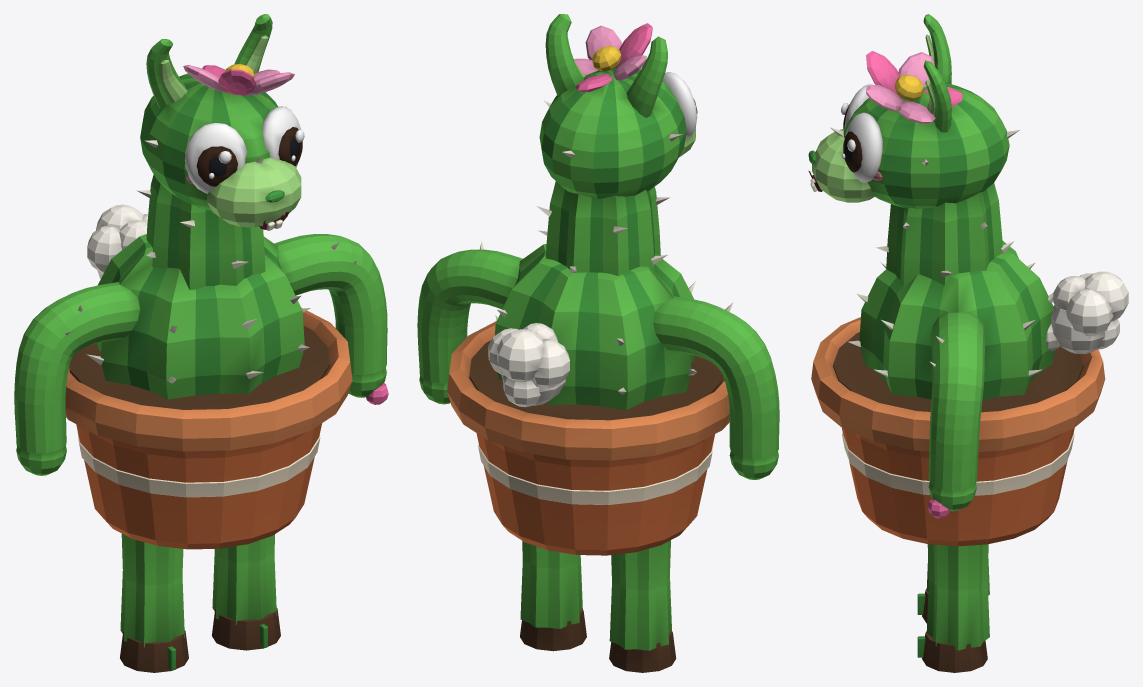
Rendered from skin_cactusso.glb.
3 views of the same model, side by side, from view 1: azimuth 30°, elevation 25°; view 2: azimuth 150°, elevation 25°; view 3: azimuth 270°, elevation 25° (orthographic). The views are drawn at different scales.
Parts seen in each view (by area): view 1: Body, Head, ArmL, ArmR, LegL, LegR, EyeL, Tail, EyeR; view 2: Body, Head, ArmL, ArmR, LegL, LegR, Tail, EyeL; view 3: Body, Head, ArmR, LegR, Tail, EyeR.
Boxes of the visible parts, bbox=[...] form: Body: bbox=[65, 175, 352, 549]; Head: bbox=[140, 14, 301, 230]; ArmL: bbox=[14, 282, 139, 475]; ArmR: bbox=[274, 234, 388, 404]; LegL: bbox=[120, 533, 188, 672]; LegR: bbox=[212, 534, 280, 650]; EyeL: bbox=[185, 123, 247, 193]; Tail: bbox=[87, 204, 148, 273]; EyeR: bbox=[262, 106, 304, 167]; Body: bbox=[447, 181, 729, 555]; Head: bbox=[539, 14, 695, 198]; ArmL: bbox=[653, 296, 779, 479]; ArmR: bbox=[417, 241, 522, 404]; LegL: bbox=[609, 540, 676, 672]; LegR: bbox=[520, 541, 586, 651]; Tail: bbox=[488, 323, 569, 407]; EyeL: bbox=[662, 72, 697, 138]; Body: bbox=[811, 183, 1105, 546]; Head: bbox=[808, 14, 1020, 208]; ArmR: bbox=[927, 312, 985, 518]; LegR: bbox=[917, 544, 989, 672]; Tail: bbox=[1046, 271, 1128, 353]; EyeR: bbox=[841, 112, 882, 182].
Bounding box in the file's own units: 3.67 × 6.02 × 2.92.
